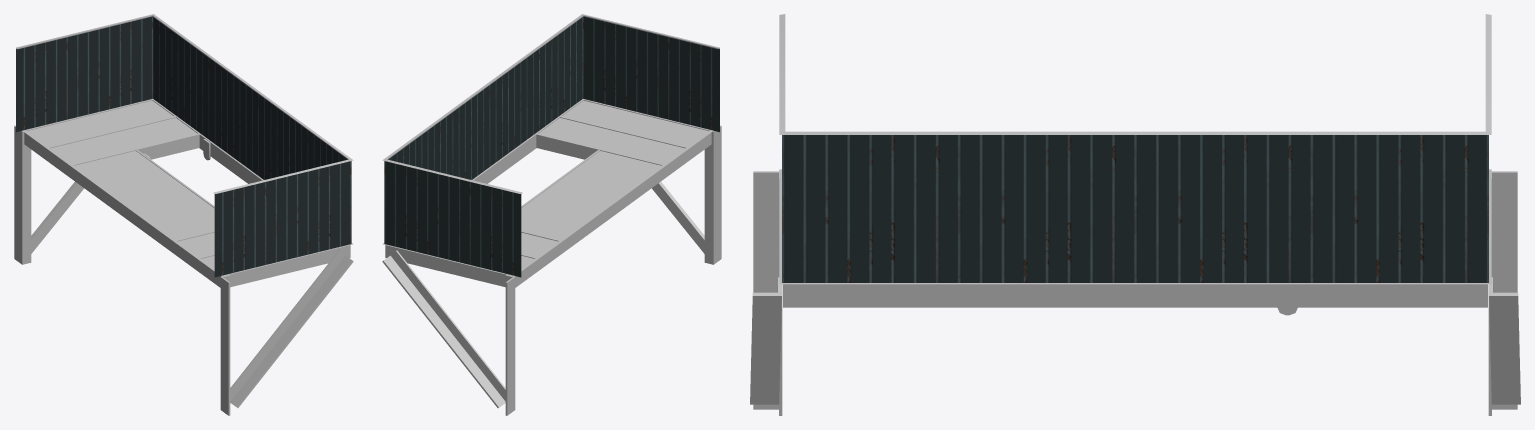
The model's file is Fire_escape3_LOD1.fbx.
3 views of the same model, side by side, from view 1: azimuth 30°, elevation 25°; view 2: azimuth 150°, elevation 25°; view 3: azimuth 270°, elevation 25° (orthographic). The views are drawn at different scales.
Parts seen in each view (by area): view 1: polySurface946; view 2: polySurface946; view 3: polySurface946.
Boxes of the visible parts, bbox=[...] form: polySurface946: bbox=[14, 14, 353, 415]; polySurface946: bbox=[382, 14, 721, 415]; polySurface946: bbox=[750, 14, 1520, 415].
Bounding box in the file's own units: 1.62 × 2.44 × 4.38.
